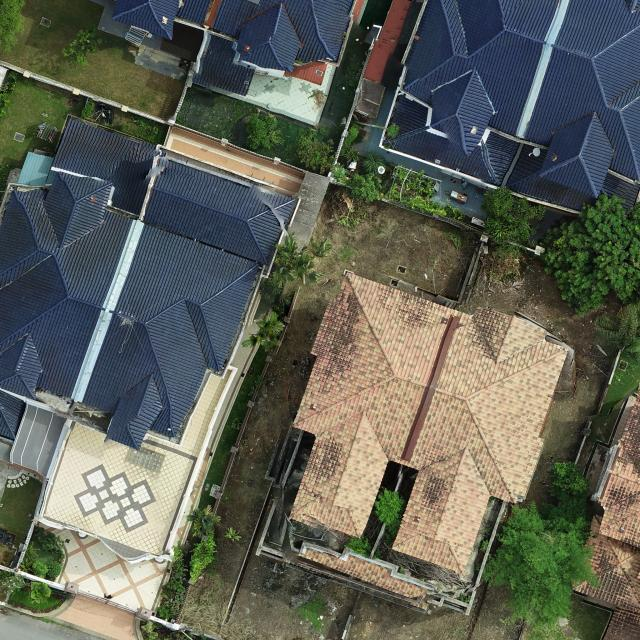banana_tree2: (19, 557, 34, 573)
tree: (481, 499, 602, 629), (537, 192, 640, 318), (479, 186, 548, 243), (272, 232, 332, 288), (594, 303, 640, 355), (61, 22, 103, 72), (296, 128, 338, 175), (241, 310, 285, 352), (374, 487, 406, 542), (188, 532, 218, 584), (548, 461, 591, 496), (245, 113, 285, 149), (0, 0, 26, 53), (185, 504, 222, 538), (350, 172, 384, 205), (361, 150, 386, 175), (0, 570, 26, 594), (30, 581, 52, 605), (331, 162, 351, 184), (25, 542, 41, 563), (32, 561, 48, 579), (47, 560, 62, 578), (225, 526, 242, 541)
